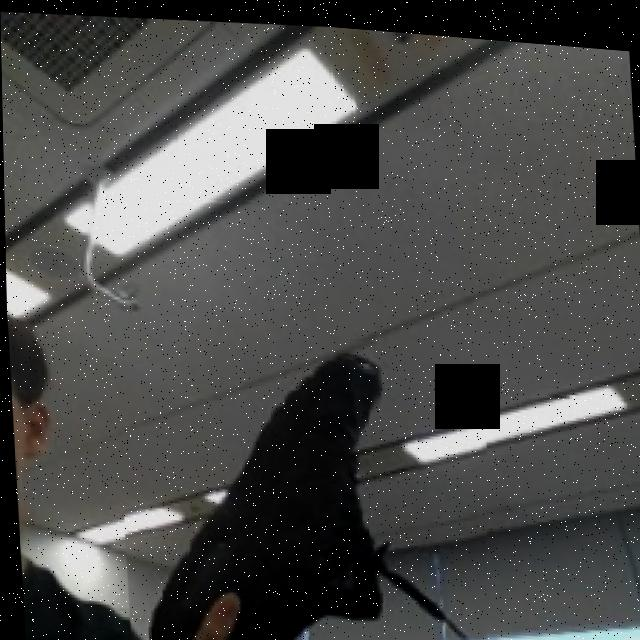shoe: (110, 310, 501, 640)
